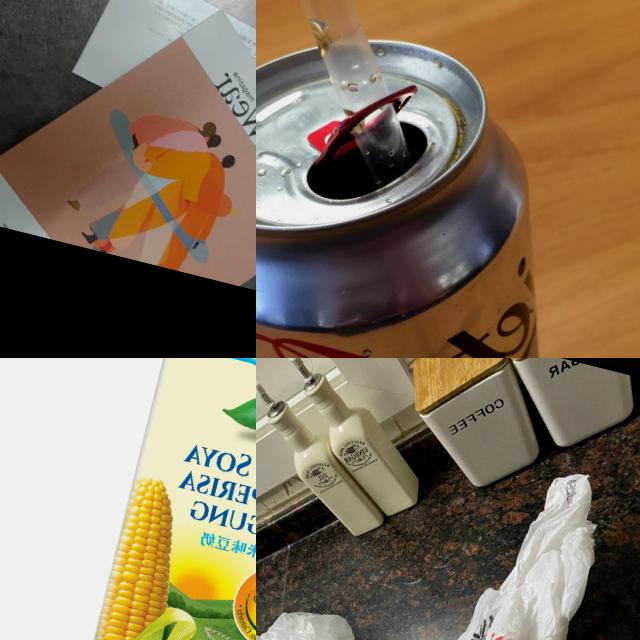aba de lata: (306, 55, 434, 201)
caixinha: (48, 358, 256, 640)
lata: (256, 0, 640, 358)
papel: (0, 0, 256, 307)
sacola plástica: (409, 450, 640, 640)
